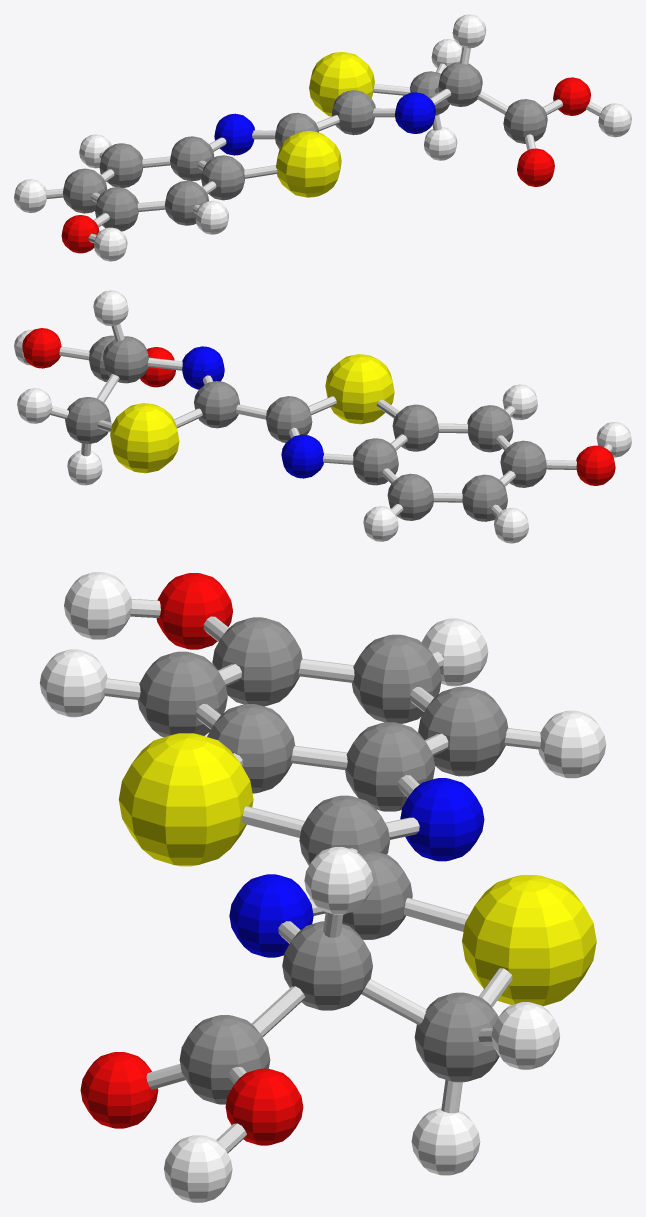
File: luciferin_low_quality - Copy.glb
3 renders of one model, top to bottom at view 1: azimuth 30°, elevation 25°; view 2: azimuth 150°, elevation 25°; view 3: azimuth 270°, elevation 25°, orthographic. The views are drawn at different scales.
Visible parts, largest first — view 1: Atom_S_2, Atom_S_1, Atom_C_10, Atom_C_14, Atom_C_8, Atom_C_12, Atom_C_16, Atom_C_17, Atom_C_18, Atom_C_13, Atom_C_15, Atom_N_6 (+14 smaller); view 2: Atom_S_1, Atom_S_2, Atom_C_8, Atom_C_10, Atom_C_12, Atom_C_17, Atom_C_16, Atom_C_13, Atom_C_15, Atom_C_18, Atom_C_9, Atom_C_11 (+13 smaller); view 3: Atom_S_2, Atom_S_1, Atom_C_8, Atom_C_18, Atom_C_16, Atom_C_17, Atom_C_9, Atom_C_15, Atom_C_13, Atom_C_14, Atom_N_7, Atom_N_6 (+20 smaller).
Boxes of the visible parts, x1,y1,x2,y2 form: Atom_S_2: [276, 131, 341, 197]; Atom_S_1: [309, 52, 374, 116]; Atom_C_10: [332, 90, 375, 135]; Atom_C_14: [503, 99, 547, 143]; Atom_C_8: [438, 62, 482, 106]; Atom_C_12: [201, 155, 244, 200]; Atom_C_16: [99, 143, 142, 187]; Atom_C_17: [95, 187, 138, 231]; Atom_C_18: [63, 168, 106, 213]; Atom_C_13: [170, 136, 214, 181]; Atom_C_15: [164, 180, 208, 225]; Atom_N_6: [395, 92, 435, 133]; Atom_S_1: [110, 403, 179, 473]; Atom_S_2: [325, 354, 394, 424]; Atom_C_8: [103, 336, 148, 383]; Atom_C_10: [194, 381, 239, 428]; Atom_C_12: [392, 404, 439, 451]; Atom_C_17: [500, 440, 546, 487]; Atom_C_16: [387, 473, 433, 520]; Atom_C_13: [353, 438, 398, 485]; Atom_C_15: [467, 405, 513, 452]; Atom_C_18: [462, 474, 507, 521]; Atom_C_9: [65, 397, 111, 443]; Atom_C_11: [266, 396, 312, 442]; Atom_S_2: [118, 733, 253, 866]; Atom_S_1: [462, 875, 596, 1006]; Atom_C_8: [282, 921, 372, 1010]; Atom_C_18: [351, 634, 441, 723]; Atom_C_16: [418, 686, 508, 776]; Atom_C_17: [212, 617, 302, 706]; Atom_C_9: [414, 992, 499, 1082]; Atom_C_15: [137, 651, 227, 737]; Atom_C_13: [345, 722, 434, 811]; Atom_C_14: [179, 1015, 270, 1104]; Atom_N_7: [400, 778, 484, 861]; Atom_N_6: [229, 874, 313, 957].
Bounding box in the file's own units: 13 × 3.57 × 5.64.
